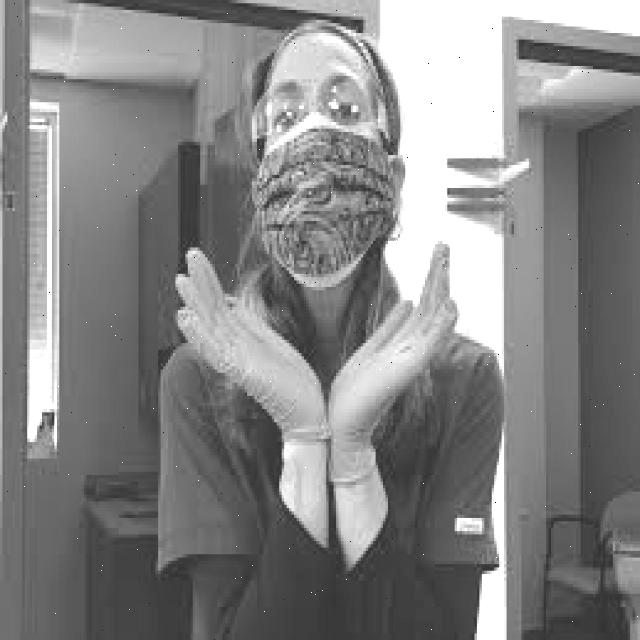fake: (223, 127, 427, 292)
real: (246, 35, 394, 293)
